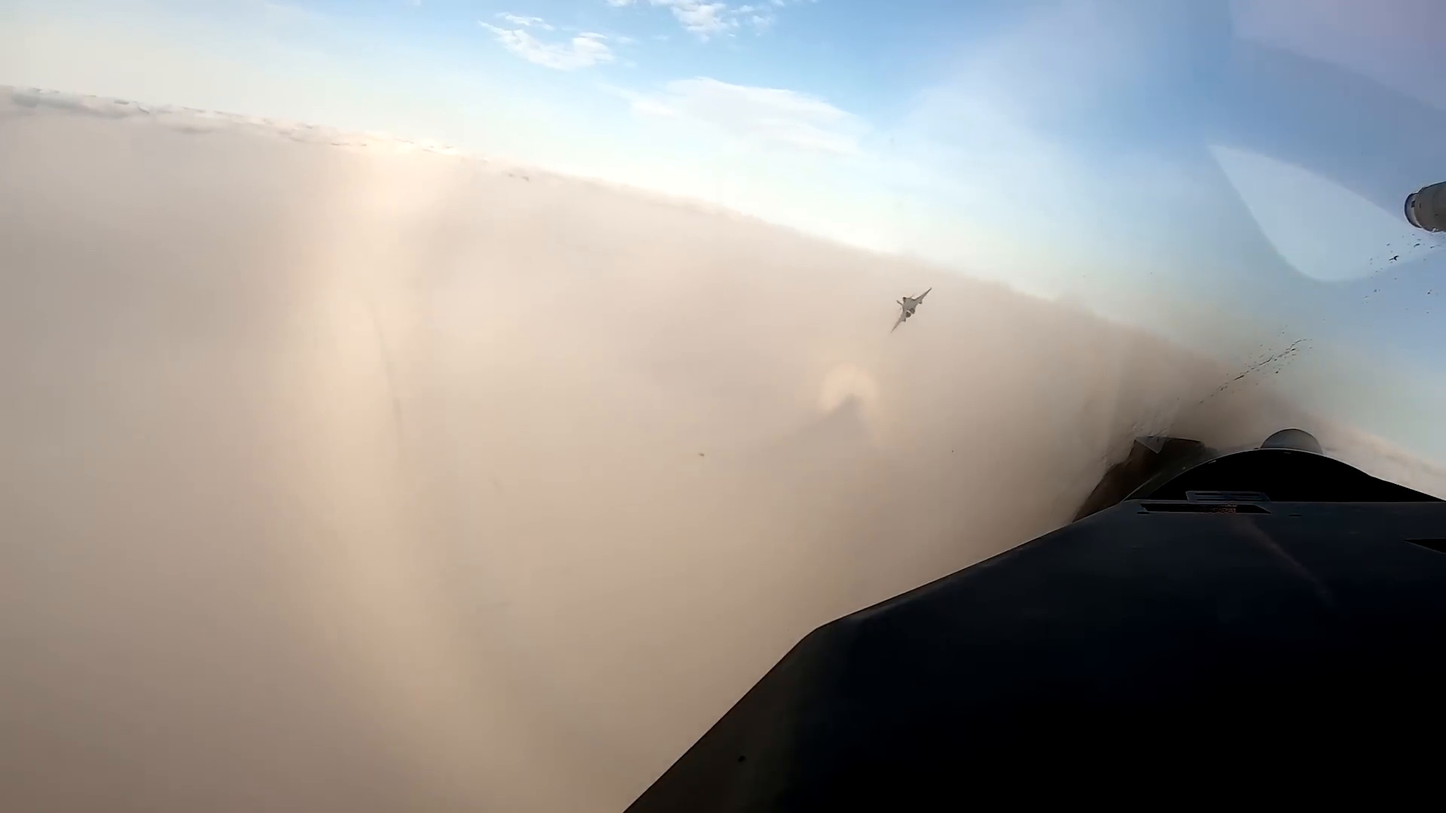Rafale: (889, 286, 932, 334)
